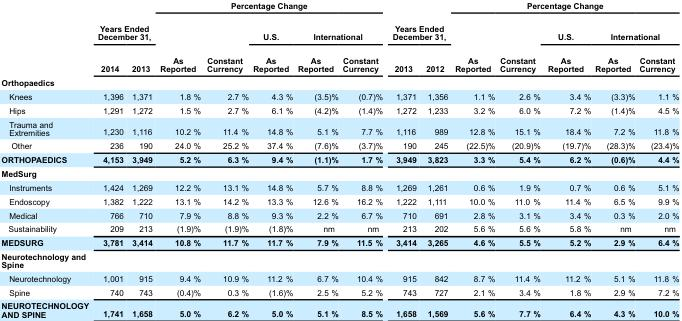table: (0, 0, 678, 318)
table column: (0, 0, 92, 318), (543, 0, 592, 318), (155, 0, 203, 318), (203, 0, 250, 318), (339, 0, 386, 318), (496, 0, 543, 318), (450, 0, 496, 318), (294, 0, 339, 318), (250, 0, 294, 318), (592, 0, 636, 318), (636, 0, 678, 318), (92, 0, 126, 318), (386, 0, 420, 318), (420, 0, 450, 318), (126, 0, 155, 318)
table column header: (0, 0, 678, 75)
table projected row header: (0, 249, 678, 271), (0, 75, 678, 89), (0, 166, 678, 179)
table row: (0, 20, 678, 48), (0, 48, 678, 75), (0, 116, 678, 138), (0, 249, 678, 271), (0, 0, 678, 20), (0, 298, 678, 318), (0, 75, 678, 89), (0, 102, 678, 116), (0, 138, 678, 152), (0, 152, 678, 166), (0, 179, 678, 193), (0, 193, 678, 207), (0, 207, 678, 221), (0, 221, 678, 235), (0, 235, 678, 249), (0, 284, 678, 298), (0, 89, 678, 102), (0, 166, 678, 179), (0, 271, 678, 284)
table spanning cell: (155, 0, 386, 20), (450, 0, 678, 20), (386, 0, 450, 48), (92, 0, 155, 48), (543, 20, 592, 75), (155, 20, 203, 75), (203, 20, 250, 75), (496, 20, 543, 75), (294, 20, 386, 48), (450, 20, 496, 75), (250, 20, 294, 75), (592, 20, 678, 48)
